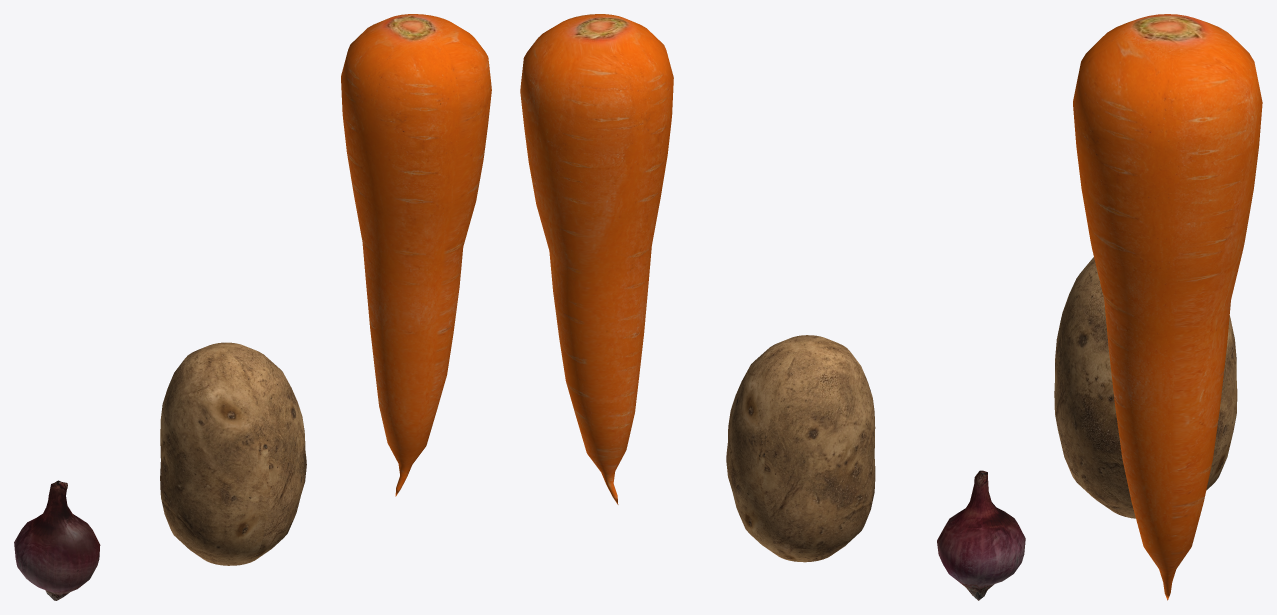
Rendered from Sayuran.fbx.
3 renders of one model, left to right at view 1: azimuth 30°, elevation 25°; view 2: azimuth 150°, elevation 25°; view 3: azimuth 270°, elevation 25°, orthographic. The views are drawn at different scales.
Parts seen in each view (by area): view 1: Wortel, Kentang, Bawang; view 2: Wortel, Kentang, Bawang; view 3: Wortel, Kentang.
Boxes of the visible parts, box(x1,y1,x2,y2) form: Wortel: box(341, 14, 491, 496); Kentang: box(160, 342, 306, 565); Bawang: box(14, 480, 100, 600); Wortel: box(520, 14, 673, 504); Kentang: box(726, 335, 875, 562); Bawang: box(937, 470, 1025, 600); Wortel: box(1073, 14, 1262, 600); Kentang: box(1054, 257, 1237, 518).
Size of the model in its own units: 37.57 by 36.73 by 11.49.
Materials: 3 (3 with a texture image).
